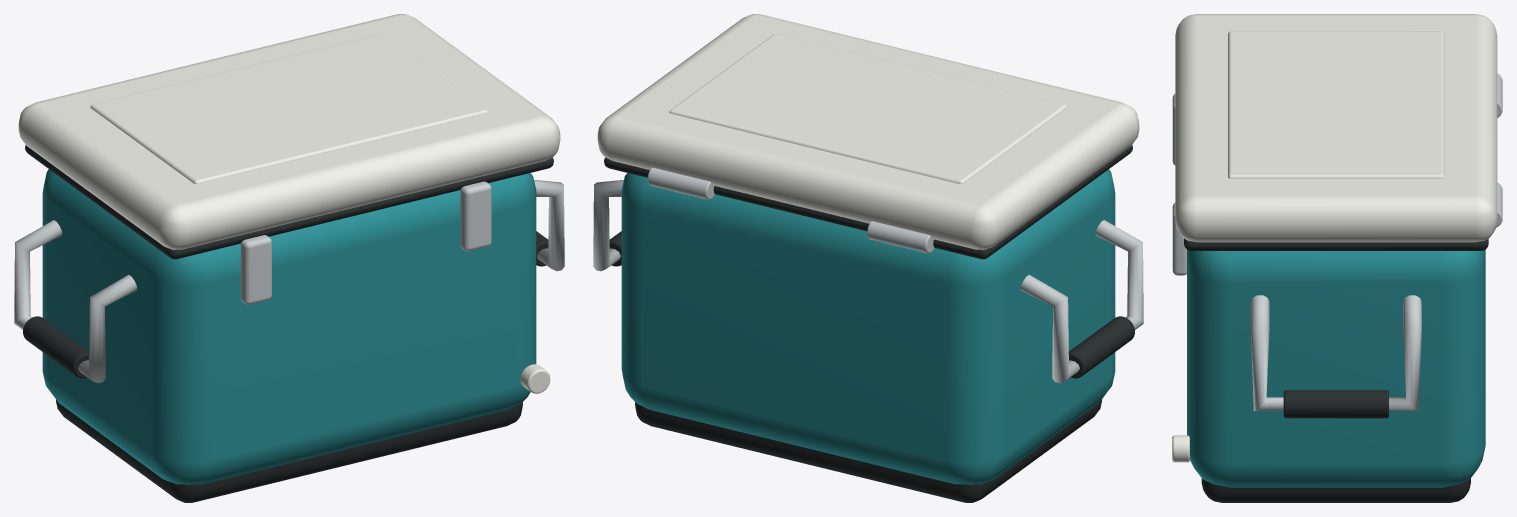
The model's file is insulated-cooler.glb.
The picture shows the model from 3 angles, left to right: view 1: azimuth 30°, elevation 25°; view 2: azimuth 150°, elevation 25°; view 3: azimuth 270°, elevation 25°; orthographic projection.
Visible parts, largest first — view 1: rounded-insulated-body, rounded-insulated-lid, lid-inset, moulded-base, lid-gasket, carry-handle, latch.001, latch, handle-grip, carry-handle.001, drain-cap; view 2: rounded-insulated-body, rounded-insulated-lid, lid-inset, moulded-base, carry-handle, lid-gasket, handle-grip, carry-handle.001, hinge, hinge.001; view 3: rounded-insulated-body, rounded-insulated-lid, lid-inset, carry-handle.001, moulded-base, handle-grip.001, lid-gasket, latch.001, drain-cap.
Boxes of the visible parts, <box> form: rounded-insulated-body: <box>42,169,536,484</box>; rounded-insulated-lid: <box>18,14,560,249</box>; lid-inset: <box>90,34,488,184</box>; moulded-base: <box>56,399,522,502</box>; lid-gasket: <box>25,145,553,259</box>; carry-handle: <box>14,220,137,383</box>; latch.001: <box>460,181,491,251</box>; latch: <box>240,235,271,304</box>; handle-grip: <box>23,316,89,378</box>; carry-handle.001: <box>534,180,564,271</box>; drain-cap: <box>520,364,550,393</box>; rounded-insulated-body: <box>621,169,1115,484</box>; rounded-insulated-lid: <box>597,14,1139,249</box>; lid-inset: <box>669,34,1067,184</box>; moulded-base: <box>635,399,1101,502</box>; carry-handle: <box>1020,220,1143,383</box>; lid-gasket: <box>604,145,1132,259</box>; handle-grip: <box>1068,316,1134,378</box>; carry-handle.001: <box>593,180,623,271</box>; hinge: <box>867,221,934,253</box>; hinge.001: <box>647,167,714,199</box>; rounded-insulated-body: <box>1187,250,1485,487</box>; rounded-insulated-lid: <box>1175,14,1497,242</box>; lid-inset: <box>1228,31,1444,178</box>; carry-handle.001: <box>1250,295,1421,410</box>; moulded-base: <box>1201,478,1470,502</box>; handle-grip.001: <box>1283,390,1388,418</box>; lid-gasket: <box>1184,238,1488,250</box>; latch.001: <box>1172,203,1186,275</box>; drain-cap: <box>1172,435,1189,462</box>.
Size of the model in its own units: 0.968 by 0.603 by 0.564.
